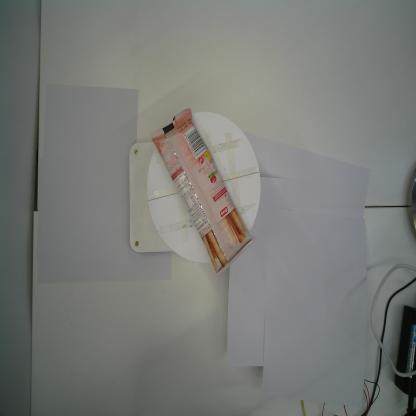Dessert: (149, 107, 258, 278)
